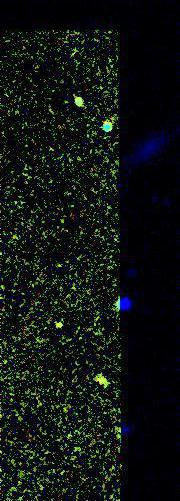star: (50, 309, 80, 339)
